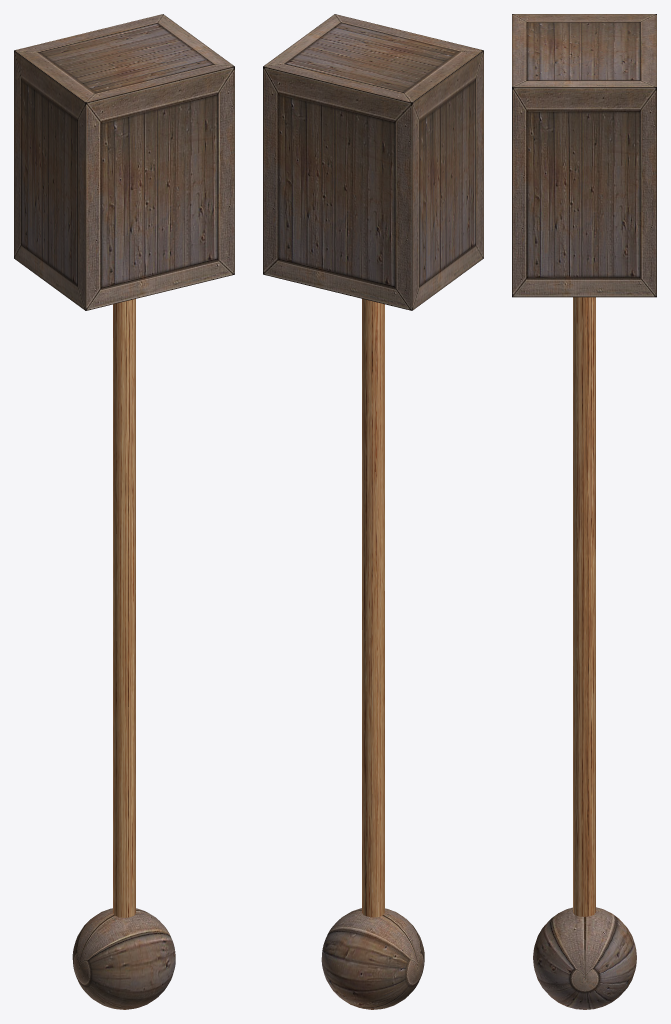
The model's file is unicycle.fbx.
3 views of the same model, side by side, from view 1: azimuth 30°, elevation 25°; view 2: azimuth 150°, elevation 25°; view 3: azimuth 270°, elevation 25° (orthographic).
Visible parts, largest first — view 1: Box001, Capsule002, Sphere001; view 2: Box001, Capsule002, Sphere001; view 3: Box001, Capsule002, Sphere001.
Part boxes in pixels (x1=…): Box001: x1=14, y1=14, x2=234, y2=310; Capsule002: x1=113, y1=299, x2=135, y2=917; Sphere001: x1=72, y1=908, x2=175, y2=1009; Box001: x1=263, y1=14, x2=483, y2=310; Capsule002: x1=362, y1=299, x2=384, y2=917; Sphere001: x1=321, y1=908, x2=424, y2=1009; Box001: x1=512, y1=14, x2=656, y2=297; Capsule002: x1=573, y1=297, x2=595, y2=916; Sphere001: x1=533, y1=907, x2=636, y2=1009.
Bounding box in the file's own units: 56.25 × 46.88 × 341.
3 materials, 3 textured.
